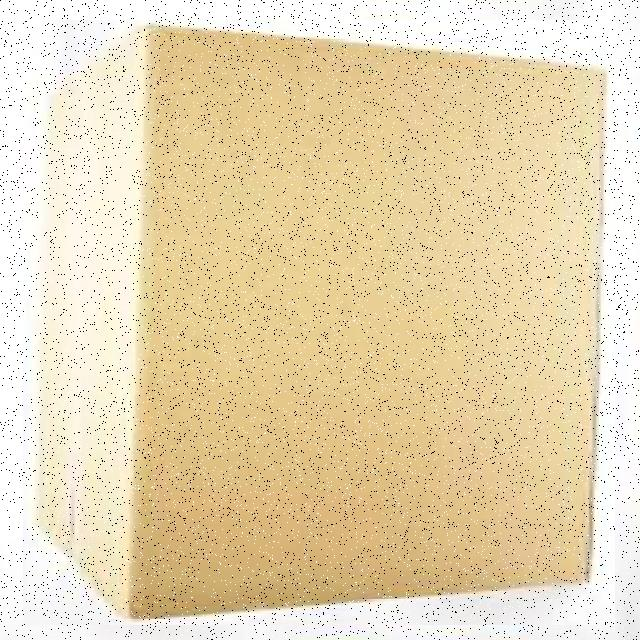normal: (23, 20, 615, 625)
